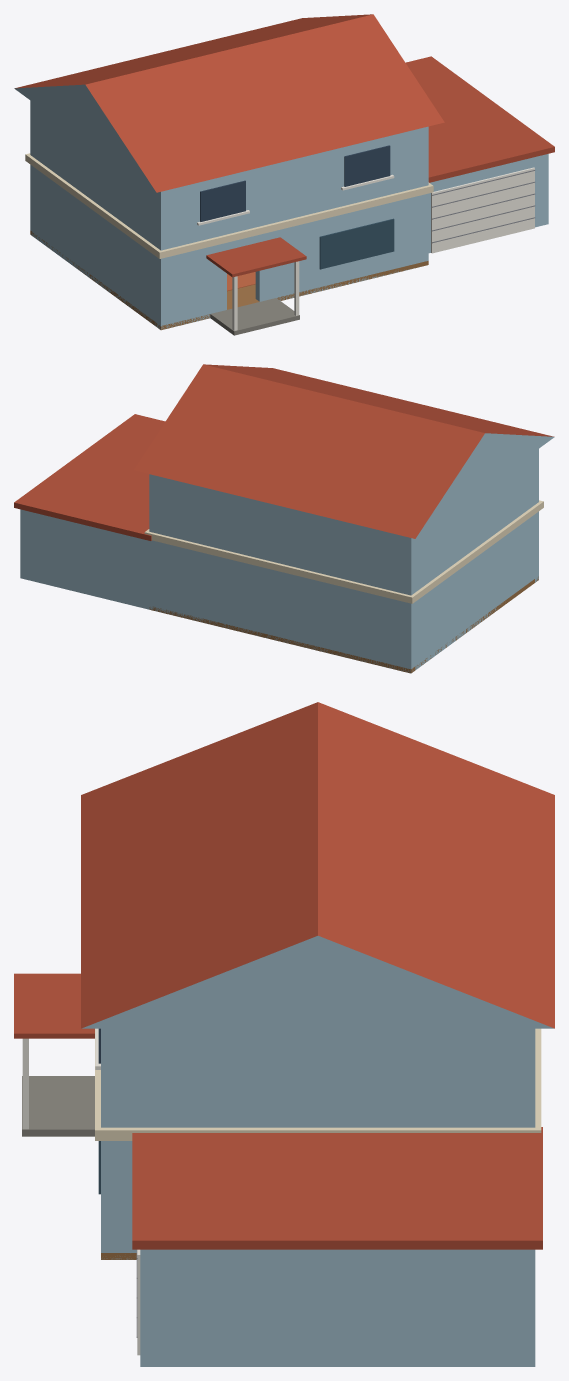
Rendered from safehouse.glb.
3 views of the same model, one above another, from view 1: azimuth 30°, elevation 25°; view 2: azimuth 150°, elevation 25°; view 3: azimuth 270°, elevation 25° (orthographic). The views are drawn at different scales.
Parts seen in each view (by area): view 1: safehouse; view 2: safehouse; view 3: safehouse.
Boxes of the visible parts, x1,y1,x2,y2 form: safehouse: [14, 14, 554, 335]; safehouse: [14, 364, 554, 673]; safehouse: [14, 702, 554, 1366].
Size of what is drawn, in the model's own units: 20.1 by 9.3 by 13.7.
